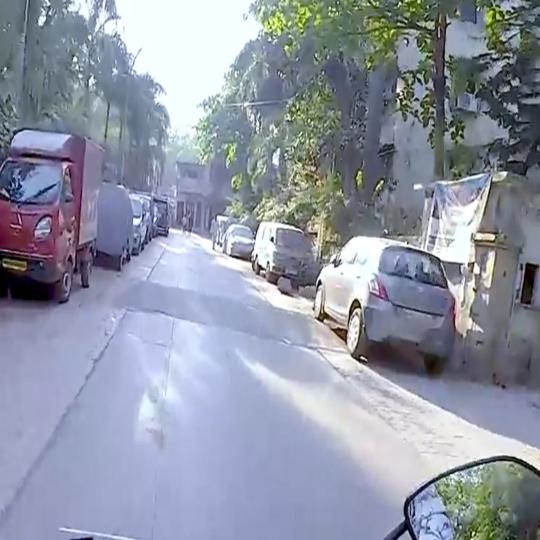Speed Bump: (91, 275, 223, 330), (223, 295, 345, 353)
